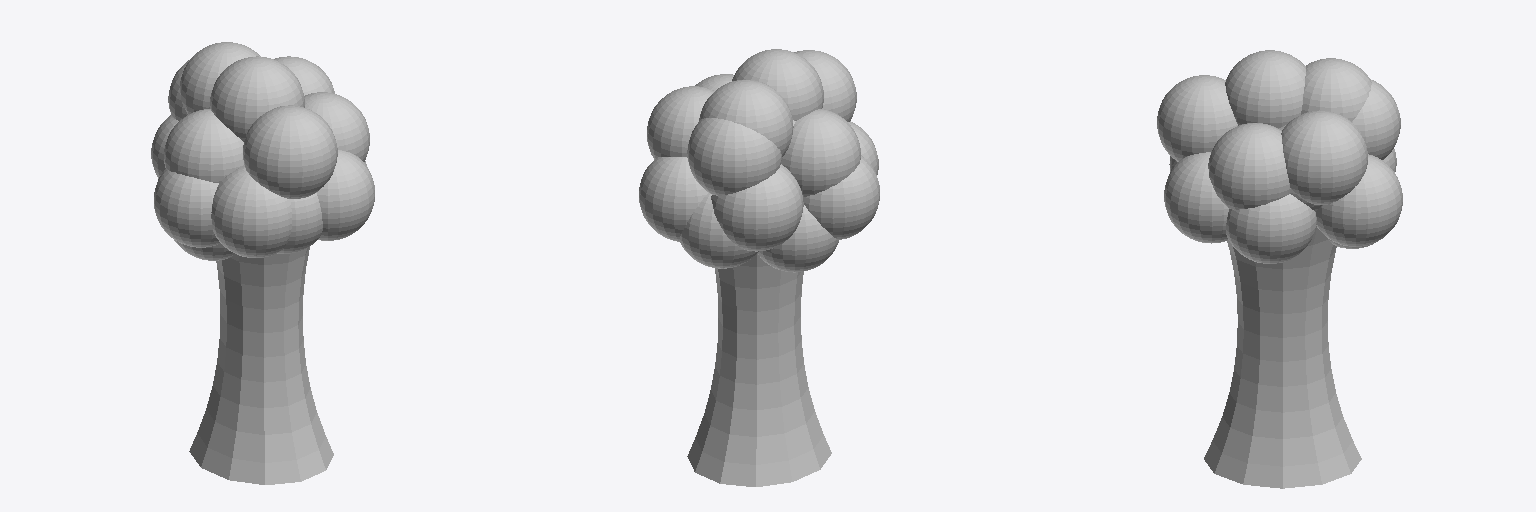
File: tree1.obj
3 views of the same model, side by side, from view 1: azimuth 30°, elevation 25°; view 2: azimuth 150°, elevation 25°; view 3: azimuth 270°, elevation 25° (orthographic).
Visible parts, largest first — view 1: Capsule, Sphere1, Sphere11, Sphere15, Sphere3, Sphere17, Sphere14, Sphere16, Sphere4, Sphere13, Sphere5, Sphere9 (+2 smaller); view 2: Capsule, Sphere, Sphere9, Sphere3, Sphere8, Sphere16, Sphere17, Sphere15, Sphere5, Sphere10, Sphere12, Sphere1 (+1 smaller); view 3: Capsule, Sphere5, Sphere4, Sphere15, Sphere1, Sphere8, Sphere7, Sphere14, Sphere16, Sphere.
Part boxes in pixels (bbox=[...]): Capsule: bbox=[189, 247, 333, 484]; Sphere1: bbox=[243, 105, 337, 198]; Sphere11: bbox=[211, 165, 291, 257]; Sphere15: bbox=[210, 56, 304, 141]; Sphere3: bbox=[164, 109, 243, 182]; Sphere17: bbox=[154, 169, 220, 247]; Sphere14: bbox=[316, 150, 374, 240]; Sphere16: bbox=[180, 42, 260, 114]; Sphere4: bbox=[304, 92, 369, 161]; Sphere13: bbox=[277, 193, 322, 253]; Sphere5: bbox=[274, 56, 334, 95]; Sphere9: bbox=[151, 115, 178, 178]; Capsule: bbox=[687, 253, 831, 486]; Sphere: bbox=[687, 118, 781, 195]; Sphere9: bbox=[711, 164, 803, 251]; Sphere3: bbox=[781, 109, 860, 196]; Sphere8: bbox=[639, 157, 707, 241]; Sphere16: bbox=[699, 80, 793, 156]; Sphere17: bbox=[803, 155, 879, 239]; Sphere15: bbox=[732, 49, 823, 120]; Sphere5: bbox=[647, 86, 714, 159]; Sphere10: bbox=[679, 192, 758, 268]; Sphere12: bbox=[758, 205, 838, 272]; Sphere1: bbox=[794, 50, 856, 121]; Capsule: bbox=[1204, 226, 1361, 488]; Sphere5: bbox=[1281, 110, 1367, 204]; Sphere4: bbox=[1208, 123, 1290, 209]; Sphere15: bbox=[1225, 50, 1305, 127]; Sphere1: bbox=[1157, 75, 1237, 161]; Sphere8: bbox=[1316, 154, 1402, 246]; Sphere7: bbox=[1226, 194, 1316, 263]; Sphere14: bbox=[1164, 152, 1228, 243]; Sphere16: bbox=[1301, 58, 1371, 121]; Sphere: bbox=[1352, 80, 1400, 159].
Bounding box in the file's own units: 2.45 × 4.63 × 2.59.